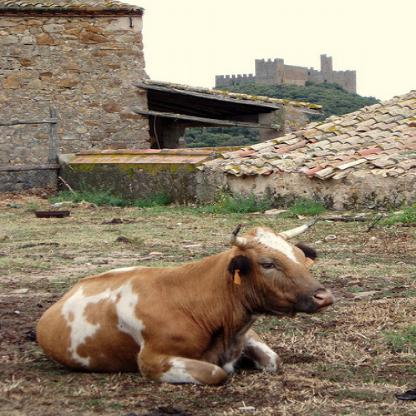cow: (34, 215, 330, 387)
